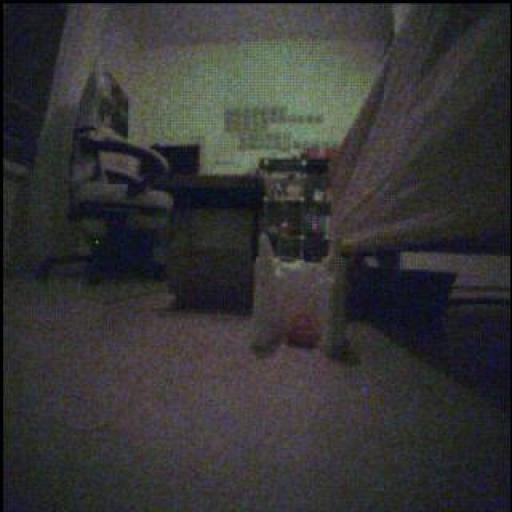basket: (290, 314, 320, 351)
